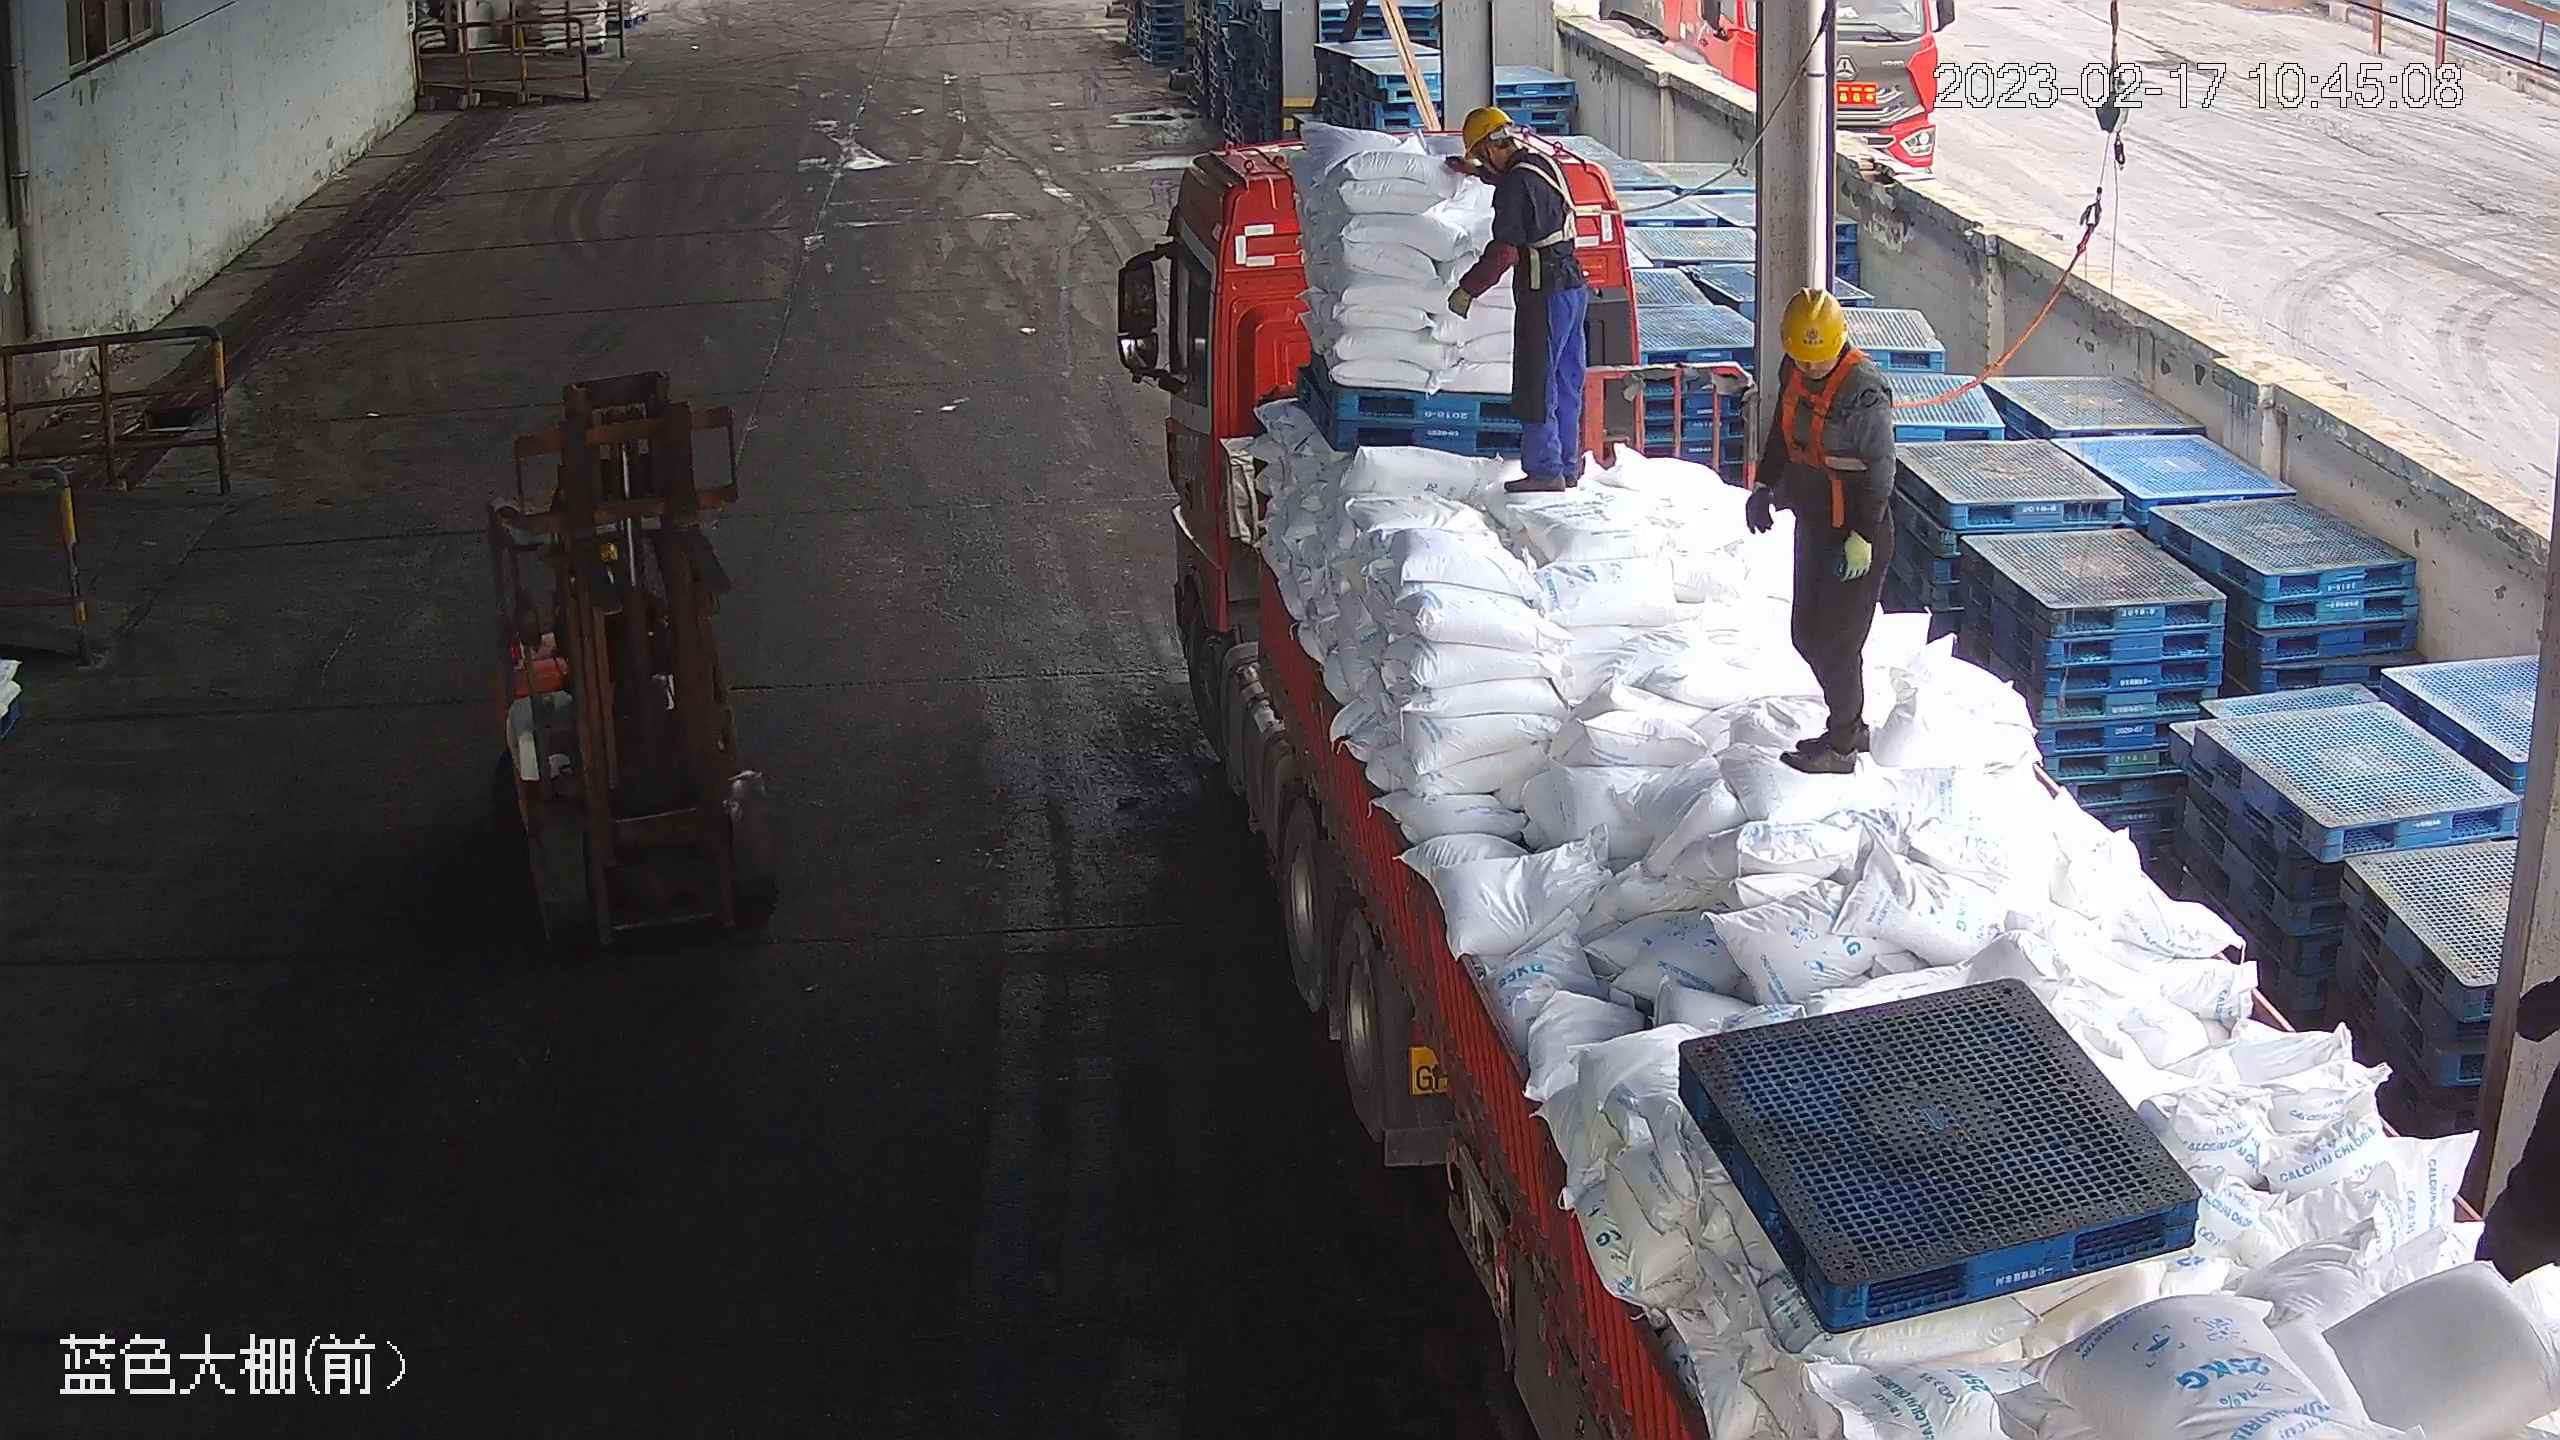belt: (1766, 350, 1932, 466), (1510, 144, 1608, 262)
head: (1756, 289, 1898, 449), (1451, 105, 1573, 225)
helmet: (1774, 291, 1852, 367), (1461, 108, 1515, 159)
people: (1742, 289, 1900, 778), (1449, 110, 1593, 493)
truck: (1112, 128, 2550, 1438)
